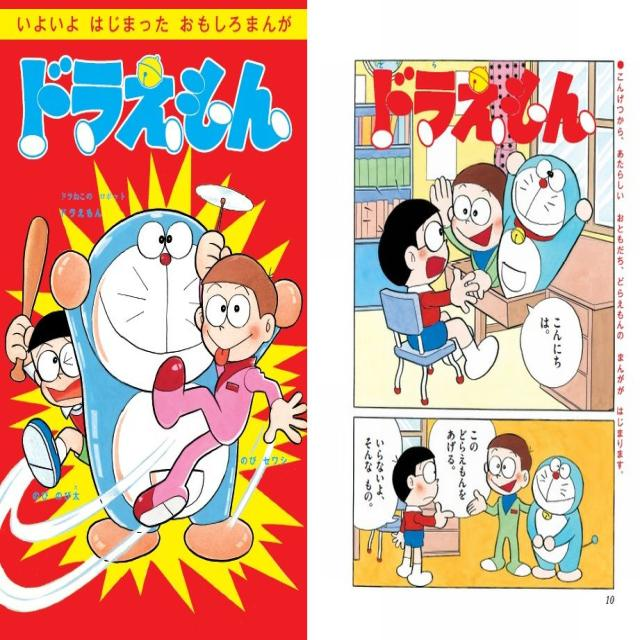doraemon: (72, 199, 229, 407), (504, 144, 590, 257), (531, 448, 591, 544)
nobita: (377, 186, 458, 304), (26, 306, 99, 427), (391, 448, 444, 518)
